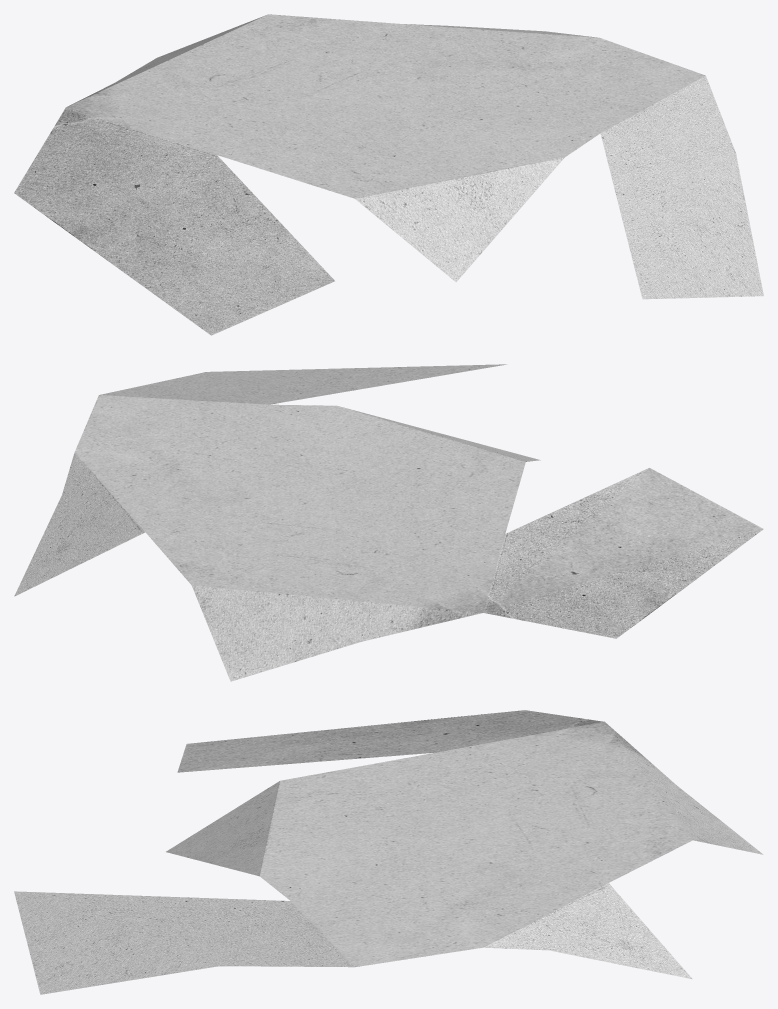
File: paper_01.gltf
3 renders of one model, top to bottom at view 1: azimuth 30°, elevation 25°; view 2: azimuth 150°, elevation 25°; view 3: azimuth 270°, elevation 25°, orthographic.
Visible parts, largest first — view 1: Paper_1; view 2: Paper_1; view 3: Paper_1.
Boxes of the visible parts, x1=… form: Paper_1: x1=14, y1=14, x2=763, y2=335; Paper_1: x1=14, y1=364, x2=763, y2=681; Paper_1: x1=14, y1=710, x2=763, y2=994.
Size of the model in its own units: 14.48 by 1.79 by 15.85.
Materials: 1 (1 with a texture image).
